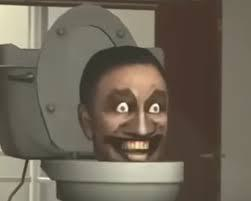skibidi-toilet: (78, 47, 177, 163)
